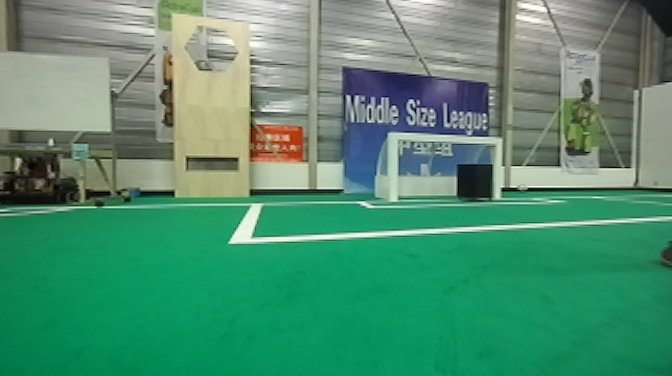ball: (518, 180, 527, 195)
goalpost: (387, 134, 400, 203), (491, 136, 502, 200)
